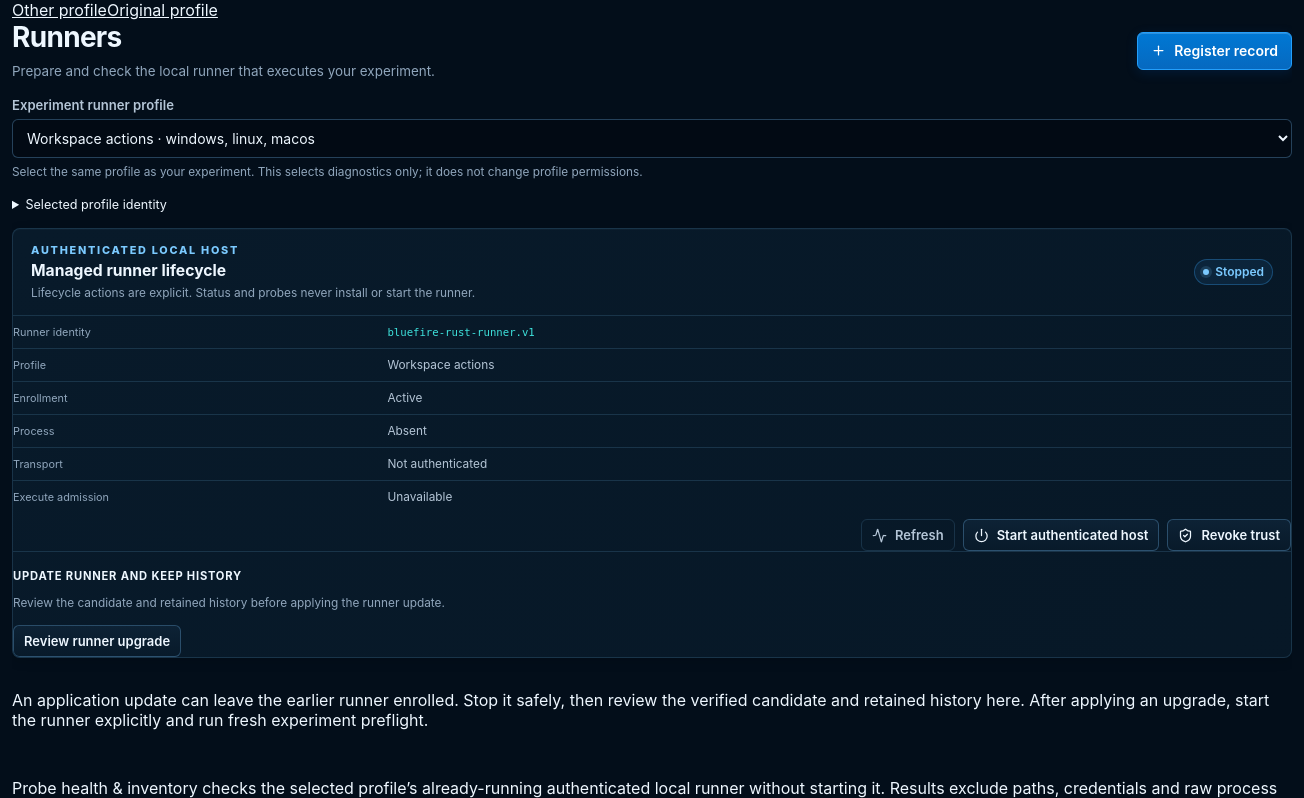
keeps a pending upgrade refusal bound to the submitted profile after navigation
The width and height of the screenshot is (1304, 798).
Click the button "Review runner upgrade" at coordinates (97, 641), box [13,625,181,657]
(page scrolled)
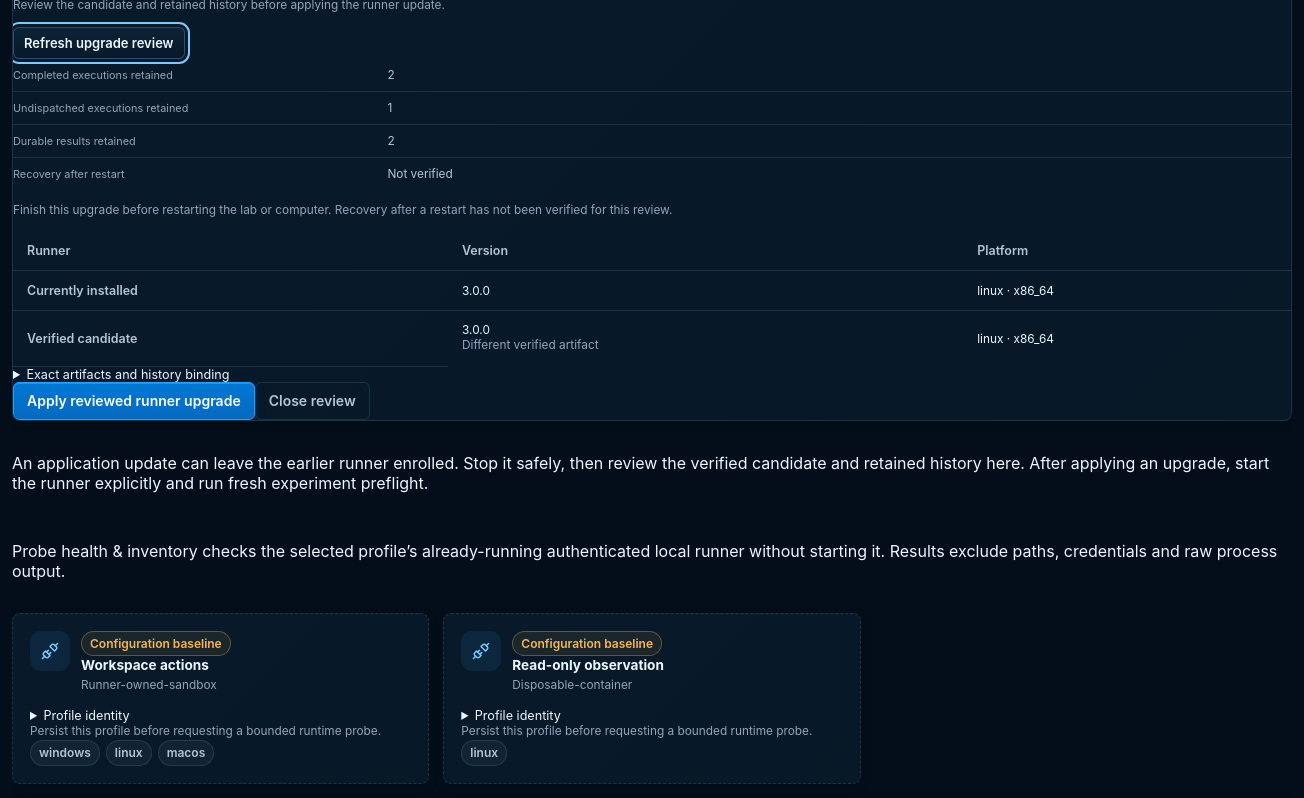
Click the button "Apply reviewed runner upgrade" at coordinates (134, 400), box [13,382,255,420]
(page scrolled)
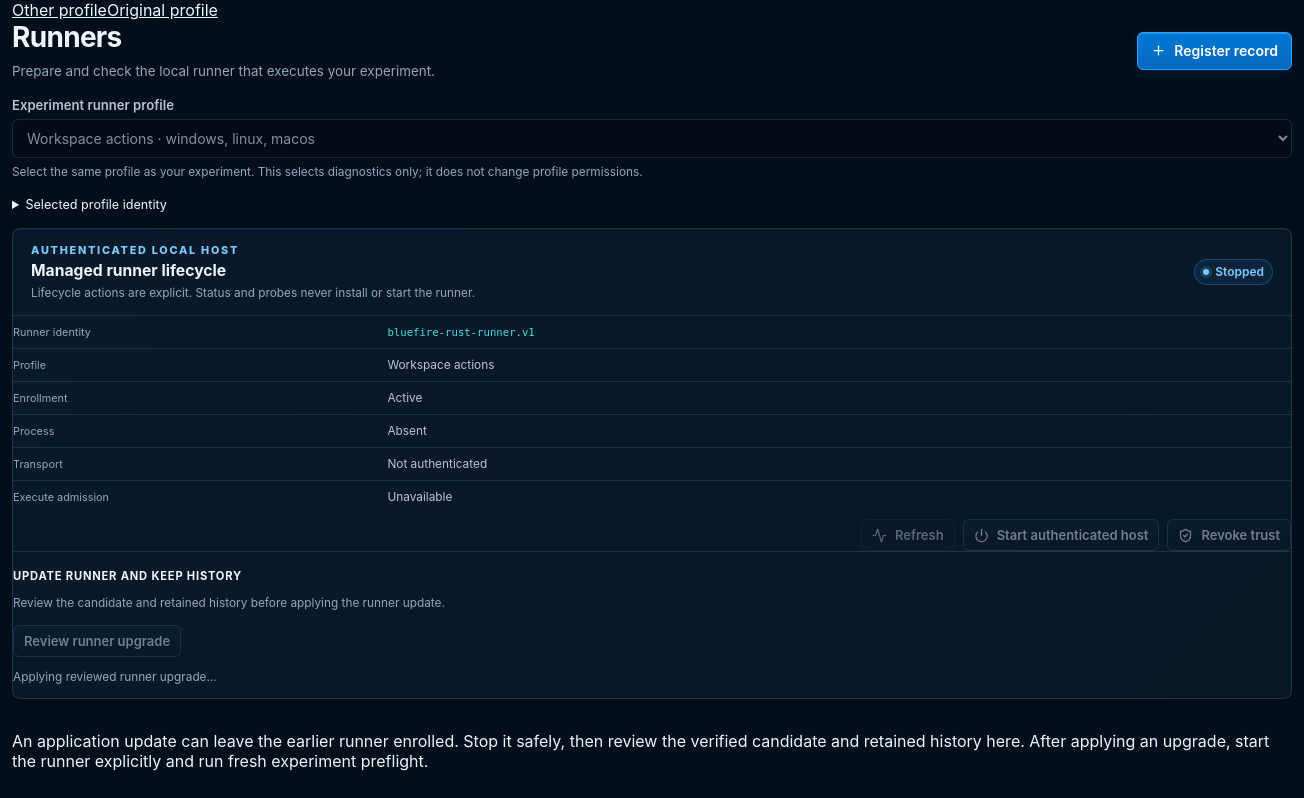
Click the link "Other profile" at coordinates (59, 10), box [12,0,107,20]
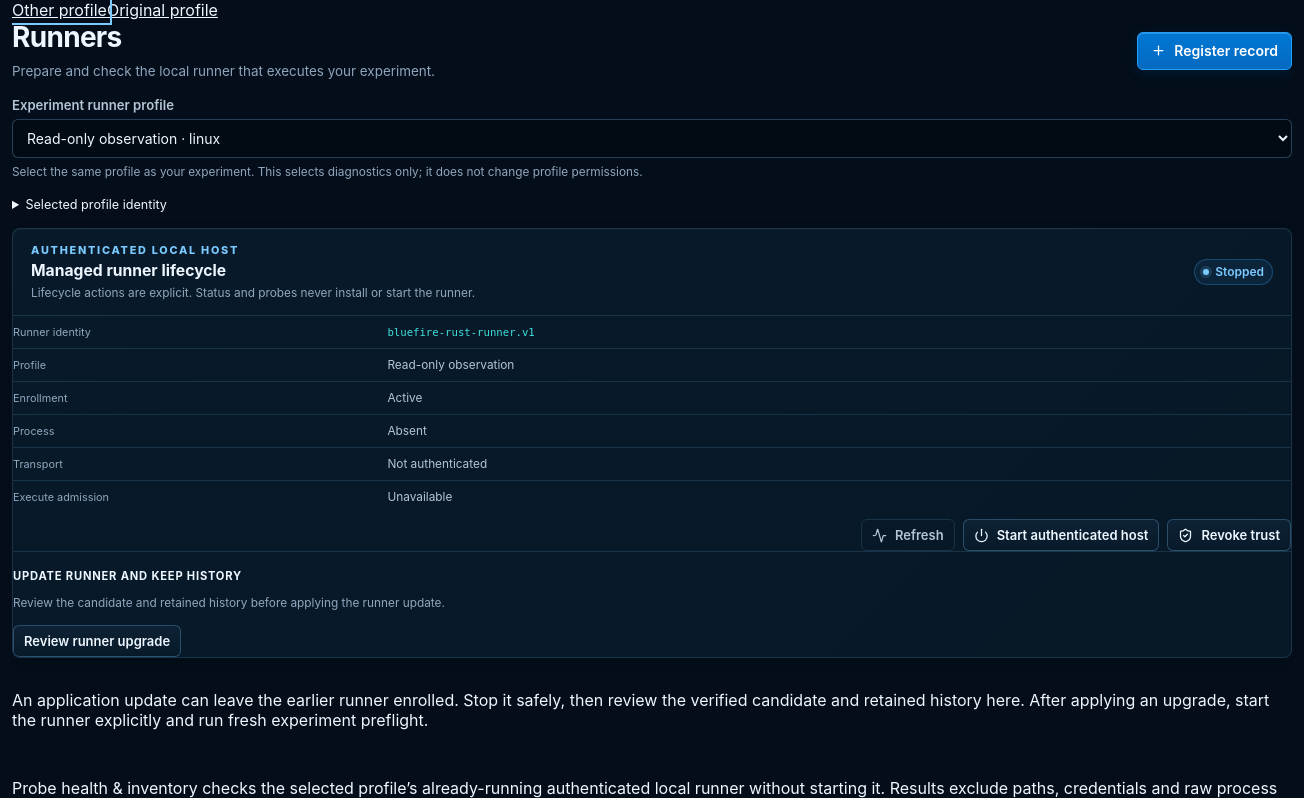
Check: the text "Runner upgrade is blocked by prior execution recovery history." is not shown
Check: the dropdown labelled "Experiment runner profile" shows "Read-only observation · linux", box [12,119,1292,158]
Click the link "Original profile" at coordinates (162, 10), box [107,0,218,20]
(page scrolled)
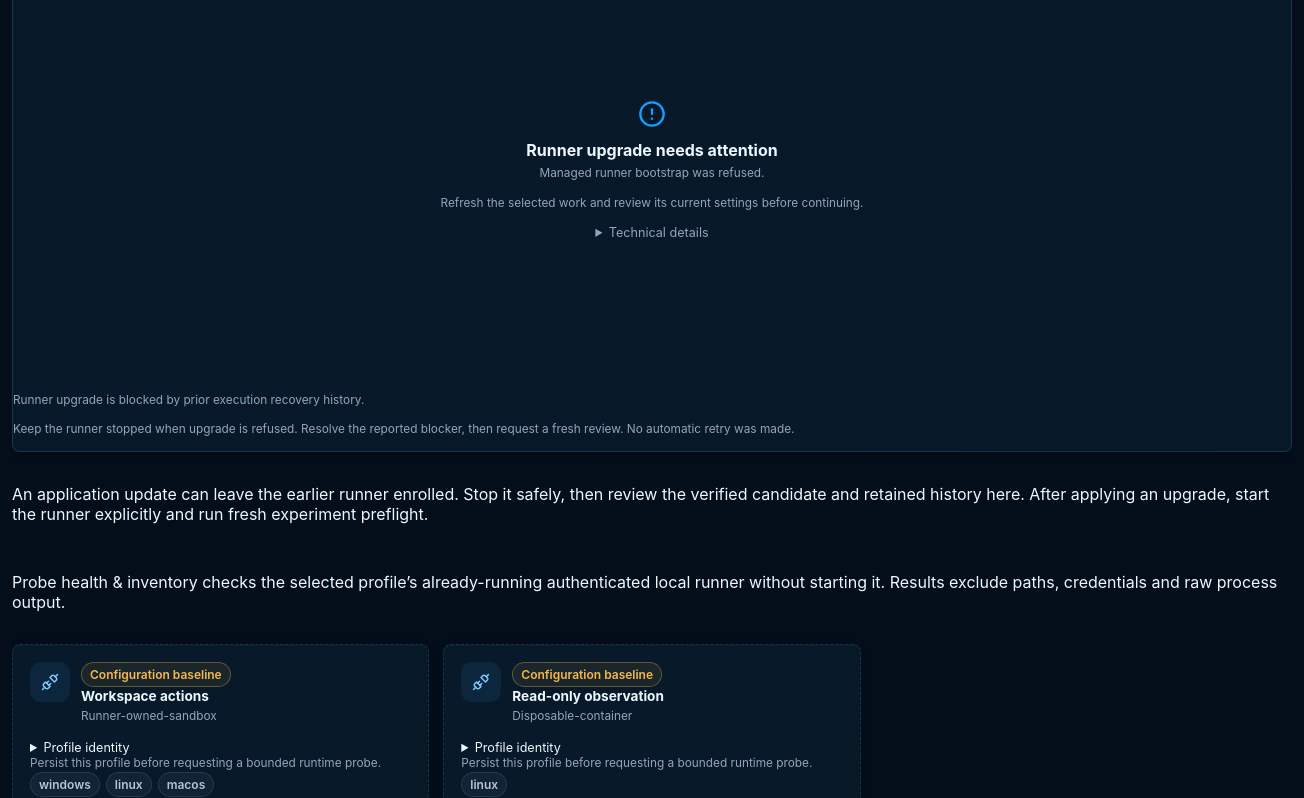
Check: the text "Runner upgrade is blocked by prior execution recovery history." is shown, box [13,393,364,407]
